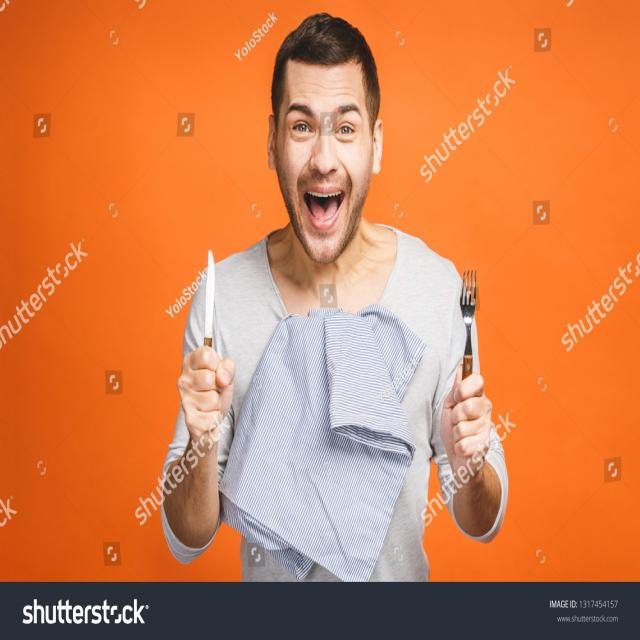fork: (455, 268, 482, 399)
